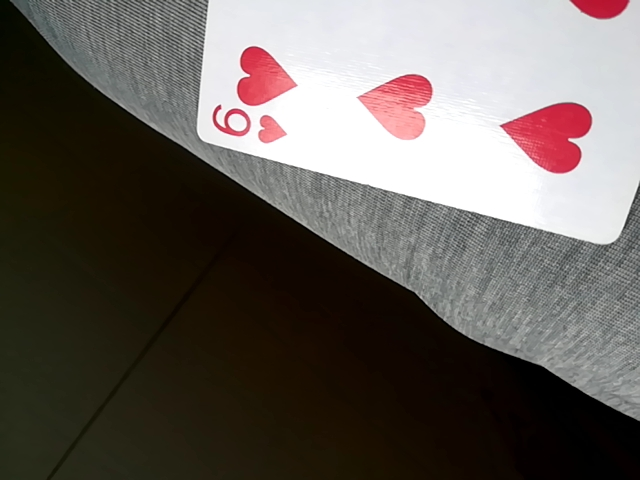hx 6: (187, 1, 638, 250)
